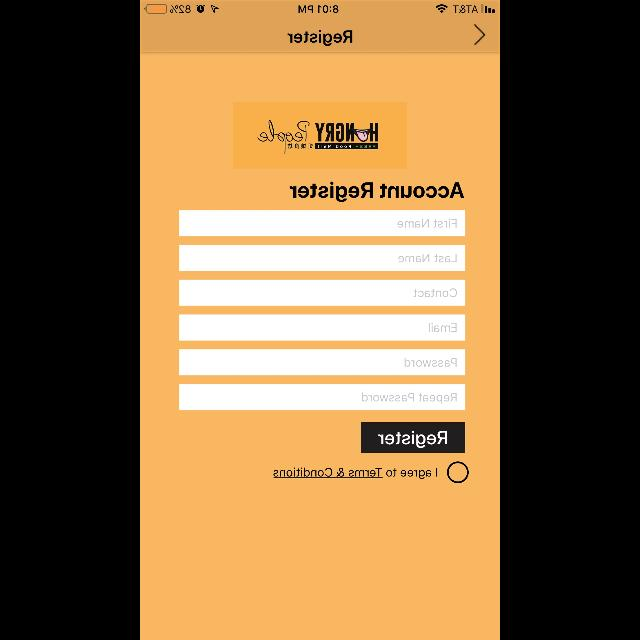checkbox: (447, 462, 469, 482)
icon: (474, 24, 484, 46)
image: (258, 120, 378, 154)
input: (179, 210, 465, 236), (179, 245, 465, 271), (179, 280, 465, 306), (179, 315, 465, 341), (180, 384, 466, 410), (180, 349, 464, 375)
text: (290, 182, 464, 202), (273, 467, 437, 479), (362, 392, 456, 403), (288, 30, 352, 46), (398, 218, 457, 228), (404, 358, 456, 368), (398, 254, 456, 262), (414, 288, 456, 298), (428, 323, 456, 332)
textbutton: (361, 423, 465, 453)
uppertaskbar: (140, 0, 500, 14)
